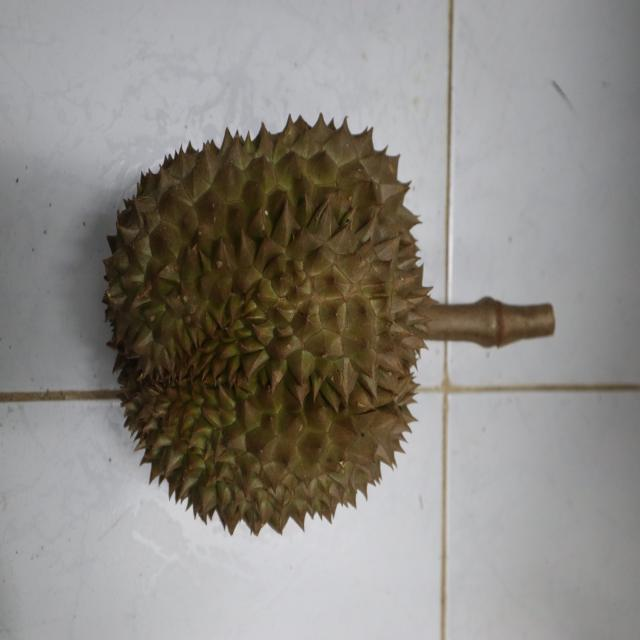mature: (103, 112, 431, 542)
